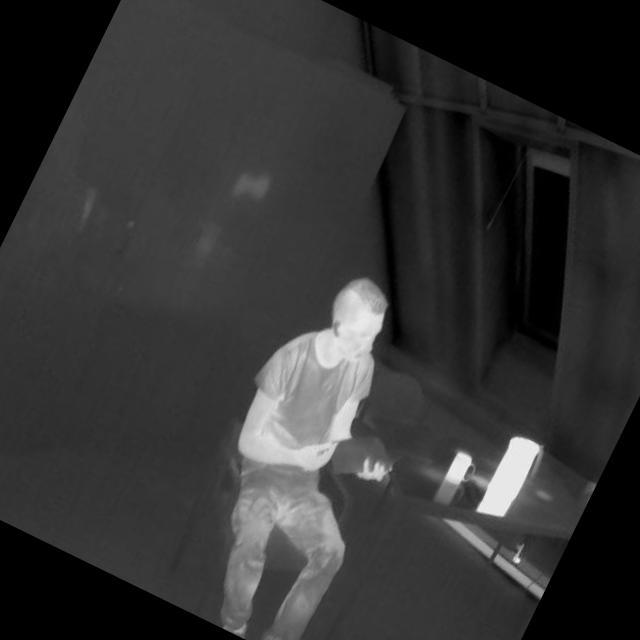person: (148, 244, 470, 640)
